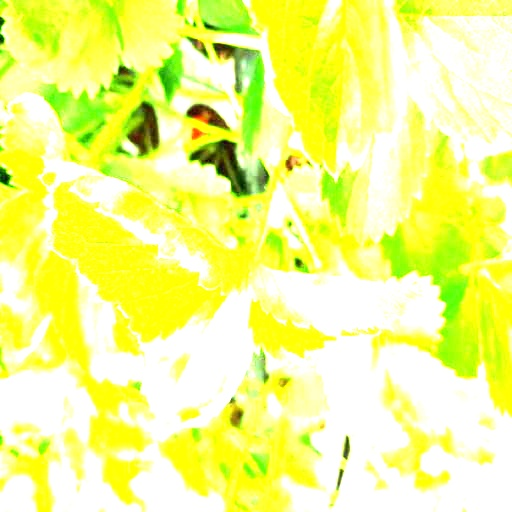Powdery Mildew Leaf: (36, 161, 251, 347), (243, 0, 409, 179), (139, 271, 254, 432), (249, 264, 422, 364)
